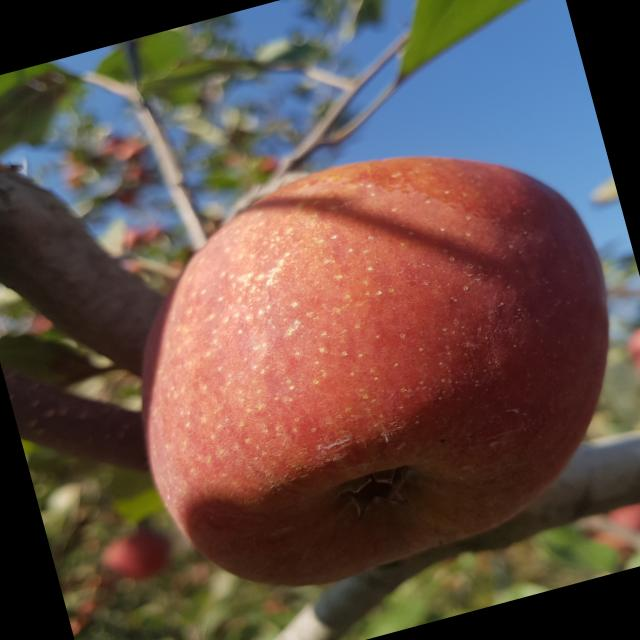fresh: (81, 95, 640, 634)
